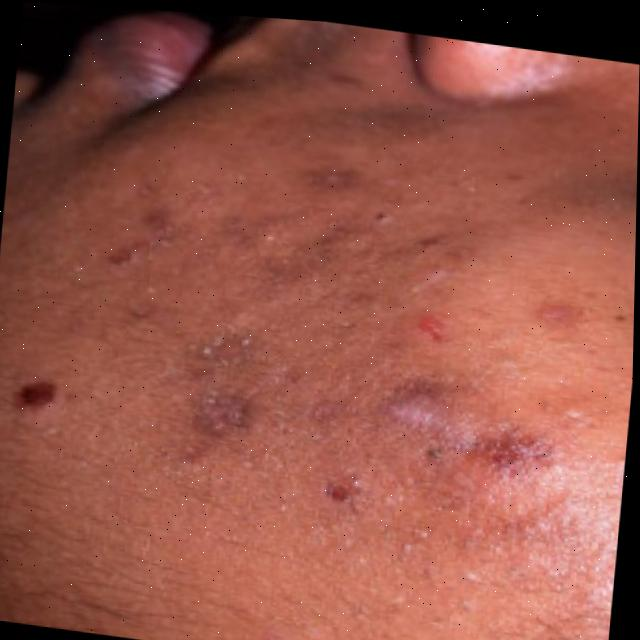Acne: (30, 116, 577, 563)
